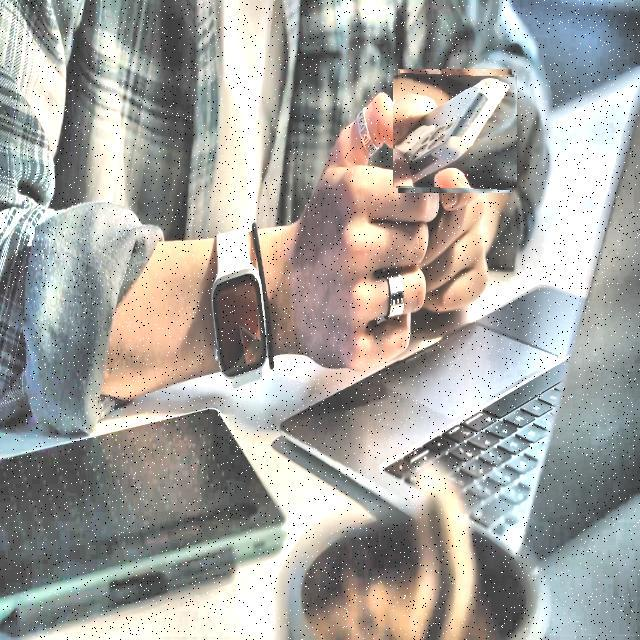Phone: (394, 70, 516, 192)
